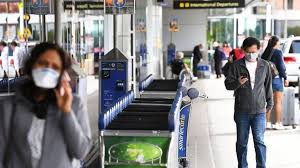Good: (2, 37, 275, 168), (219, 33, 290, 168)
